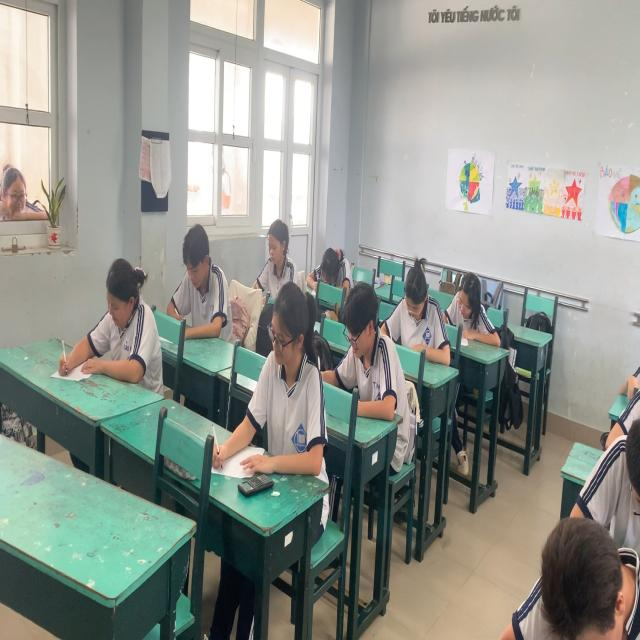not_cheating: (522, 494, 640, 637), (252, 280, 329, 481), (337, 279, 405, 464), (81, 250, 166, 394), (174, 218, 230, 352), (392, 251, 450, 372), (254, 212, 298, 290), (457, 262, 492, 356), (312, 237, 356, 298)
